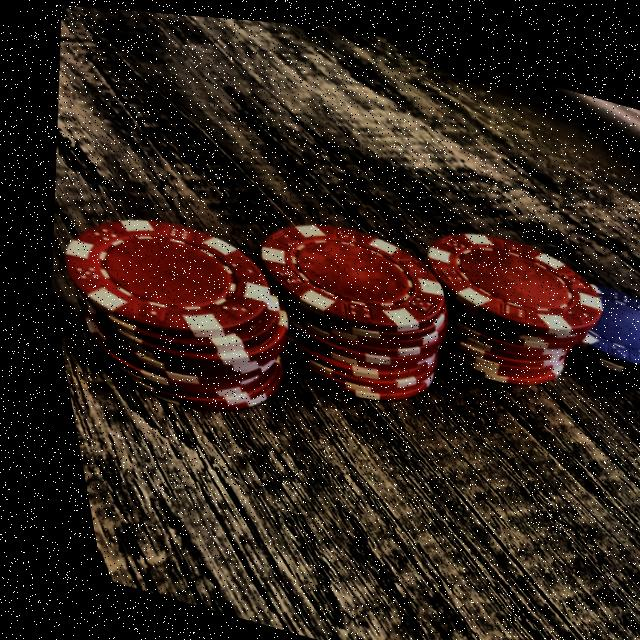Chip: (26, 188, 310, 434), (219, 195, 467, 422), (388, 206, 618, 406), (528, 259, 640, 394)
